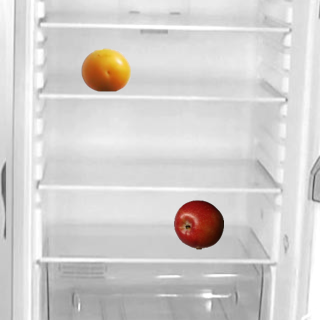Apple Braeburn: (173, 199, 223, 249)
Cherry Wax Yellow: (80, 44, 130, 94)
